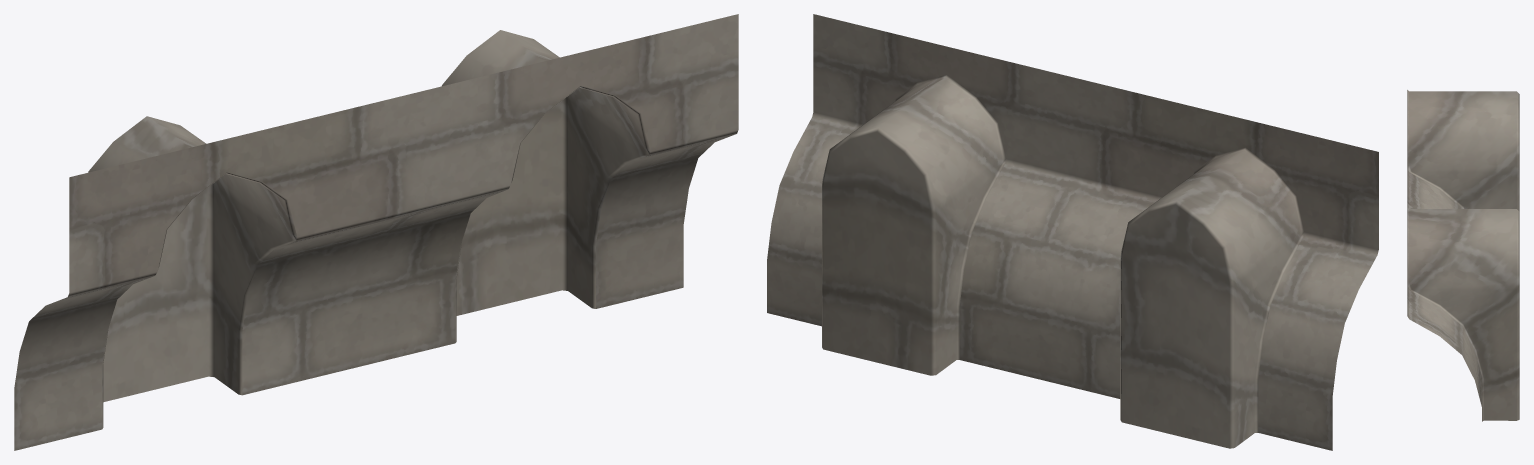
File: Wall_IndentTop.fbx
The picture shows the model from 3 angles, left to right: view 1: azimuth 30°, elevation 25°; view 2: azimuth 150°, elevation 25°; view 3: azimuth 270°, elevation 25°; orthographic projection. The views are drawn at different scales.
Parts seen in each view (by area): view 1: Wall_IndentTop; view 2: Wall_IndentTop; view 3: Wall_IndentTop.
Boxes of the visible parts, bbox=[...] form: Wall_IndentTop: bbox=[14, 14, 738, 450]; Wall_IndentTop: bbox=[767, 14, 1378, 450]; Wall_IndentTop: bbox=[1407, 90, 1519, 421].
Bounding box in the file's own units: 500 × 224 × 107.
1 material, 1 textured.
